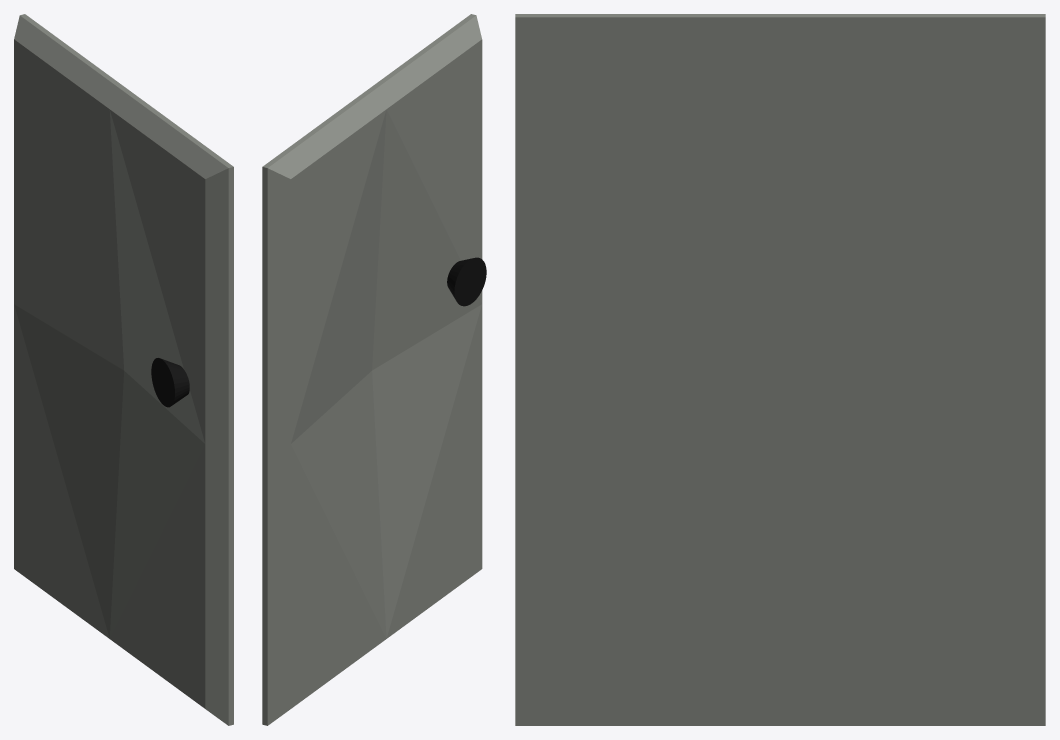
Rendered from mesa_centro_puerta4.obj.
The picture shows the model from 3 angles, left to right: view 1: azimuth 30°, elevation 25°; view 2: azimuth 150°, elevation 25°; view 3: azimuth 270°, elevation 25°; orthographic projection. The views are drawn at different scales.
Visible parts, largest first — view 1: Cubo.028_Cubo.027; view 2: Cubo.028_Cubo.027; view 3: Cubo.028_Cubo.027.
Part boxes in pixels (bbox=[...]): Cubo.028_Cubo.027: bbox=[14, 14, 233, 725]; Cubo.028_Cubo.027: bbox=[262, 14, 486, 725]; Cubo.028_Cubo.027: bbox=[515, 14, 1045, 725].
Size of the model in its own units: 0.0699 by 1 by 0.6797.
